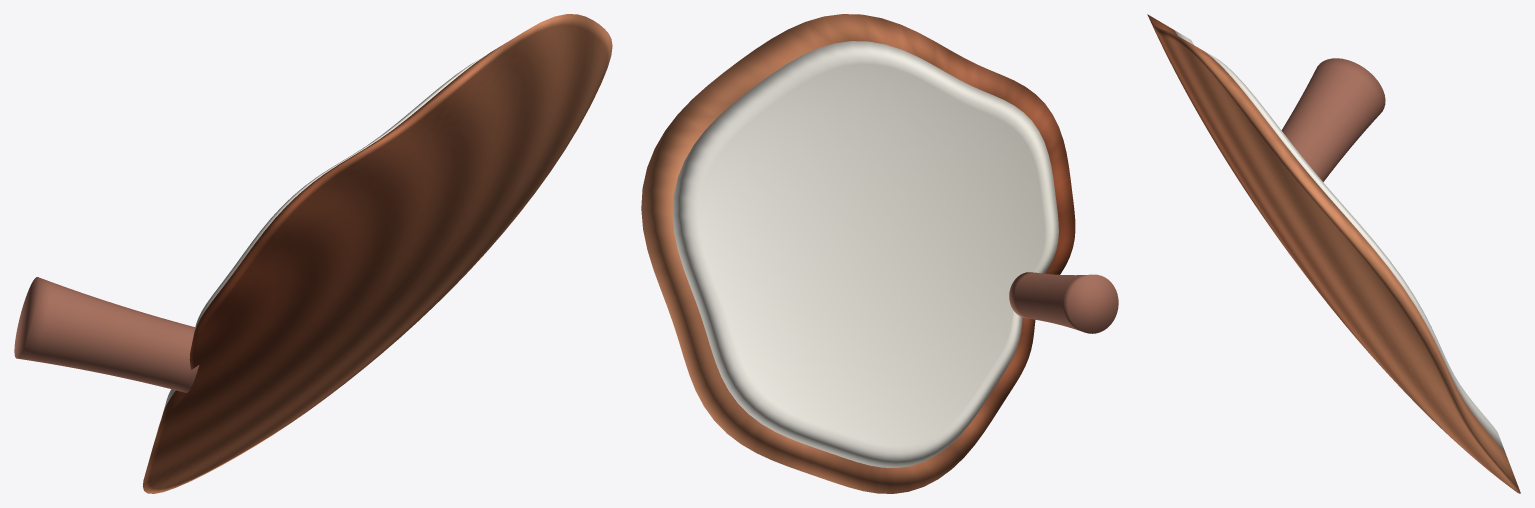
The model's file is ganoderma-lucidum.glb.
The picture shows the model from 3 angles, left to right: view 1: azimuth 30°, elevation 25°; view 2: azimuth 150°, elevation 25°; view 3: azimuth 270°, elevation 25°; orthographic projection. The views are drawn at different scales.
Visible parts, largest first — view 1: pileus_crust, stipe_stem, pore_surface; view 2: pore_surface, pileus_crust, stipe_stem; view 3: pileus_crust, stipe_stem, pore_surface.
Part boxes in pixels (<box>): pileus_crust: <box>143,14,612,493</box>; stipe_stem: <box>14,277,199,392</box>; pore_surface: <box>154,53,488,442</box>; pore_surface: <box>672,41,1058,467</box>; pileus_crust: <box>641,14,1075,493</box>; stipe_stem: <box>1009,272,1118,333</box>; pileus_crust: <box>1147,14,1520,493</box>; stipe_stem: <box>1281,58,1385,181</box>; pore_surface: <box>1174,30,1506,454</box>.
Bounding box in the file's own units: 1.64 × 1.31 × 0.9062.
